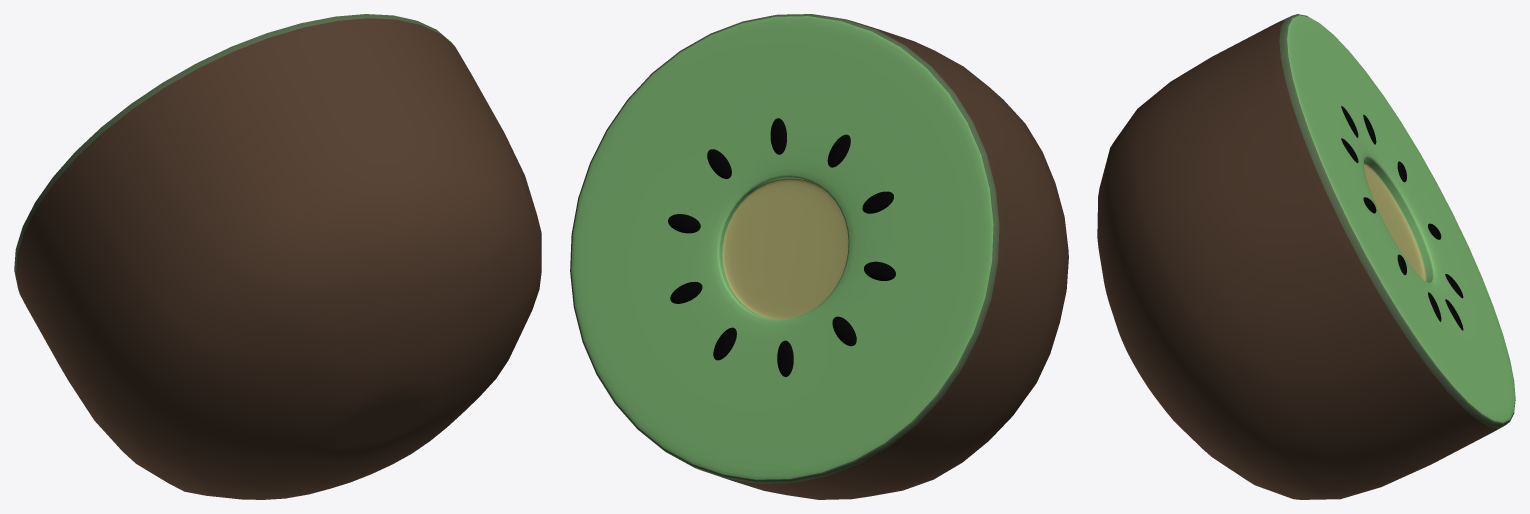
File: KiwiFruta.fbx
3 renders of one model, left to right at view 1: azimuth 30°, elevation 25°; view 2: azimuth 150°, elevation 25°; view 3: azimuth 270°, elevation 25°, orthographic. The views are drawn at different scales.
Parts seen in each view (by area): view 1: pSphere12; view 2: pSphere12; view 3: pSphere12.
Boxes of the visible parts, x1,y1,x2,y2 form: pSphere12: [14, 14, 541, 499]; pSphere12: [570, 14, 1068, 499]; pSphere12: [1097, 14, 1515, 499].
Bounding box in the file's own units: 1.88 × 1.97 × 1.69.
